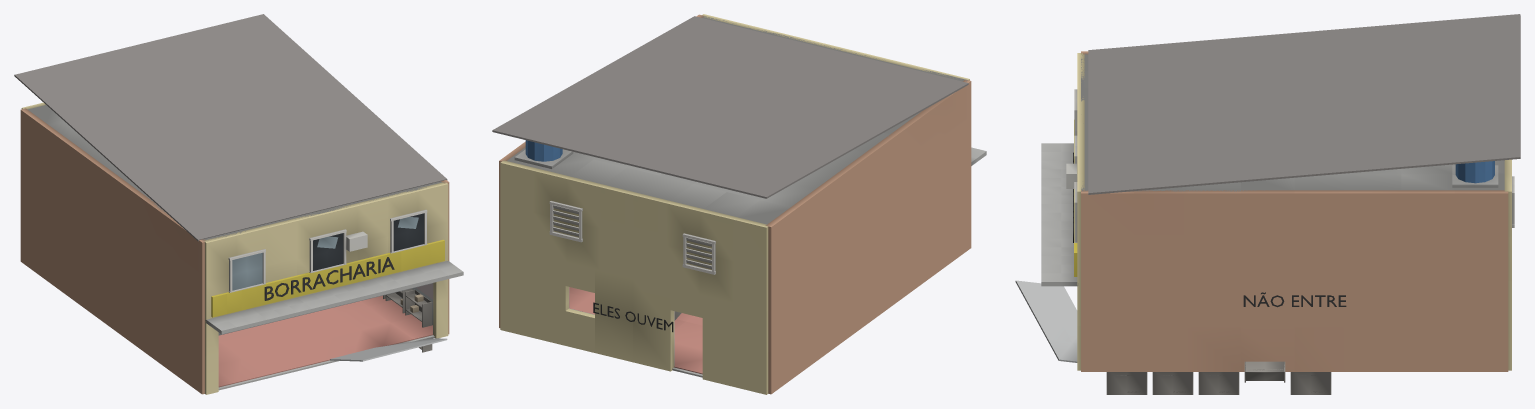
The model's file is sobrado_16.glb.
The picture shows the model from 3 angles, left to right: view 1: azimuth 30°, elevation 25°; view 2: azimuth 150°, elevation 25°; view 3: azimuth 270°, elevation 25°; orthographic projection. The views are drawn at different scales.
Parts seen in each view (by area): view 1: longe, ext, dentro, detalhe; view 2: ext, longe, detalhe, dentro; view 3: ext, longe, dentro, detalhe.
Boxes of the visible parts, left/top/right/bottom form: longe: left=14, top=14, right=463, bottom=361; ext: left=20, top=102, right=449, bottom=394; dentro: left=218, top=283, right=434, bottom=390; detalhe: left=228, top=209, right=427, bottom=292; ext: left=499, top=14, right=971, bottom=394; longe: left=492, top=16, right=986, bottom=224; detalhe: left=514, top=140, right=715, bottom=332; dentro: left=569, top=287, right=702, bottom=377; ext: left=1077, top=51, right=1511, bottom=371; longe: left=1015, top=14, right=1520, bottom=362; dentro: left=1106, top=361, right=1331, bottom=394; detalhe: left=1066, top=89, right=1514, bottom=307.
Size of what is drawn, in the model's own units: 10.77 by 8.13 by 15.37.
